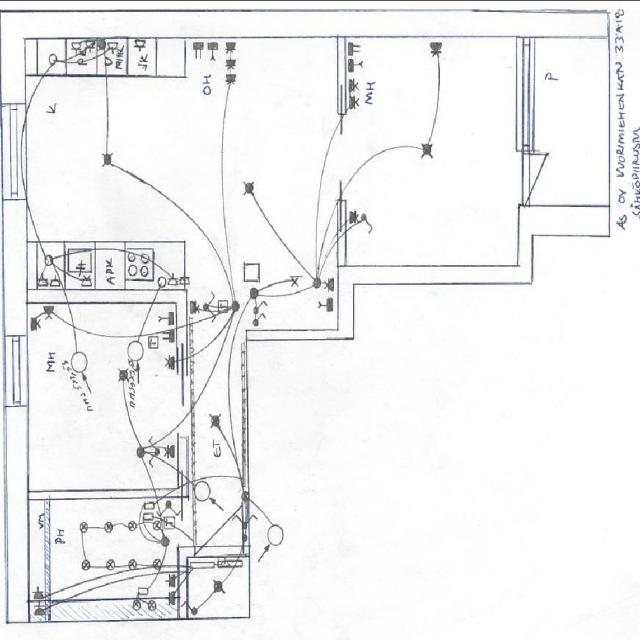door: (194, 485, 243, 556), (518, 154, 572, 203)
